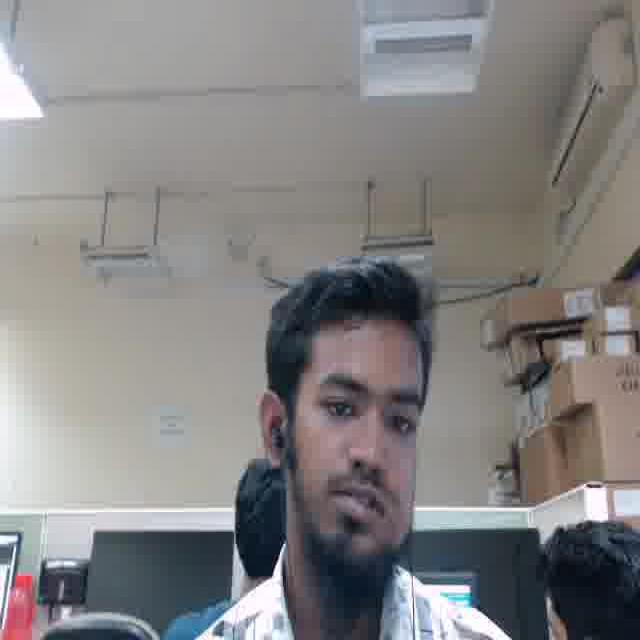Engaged: (289, 332, 424, 561)
